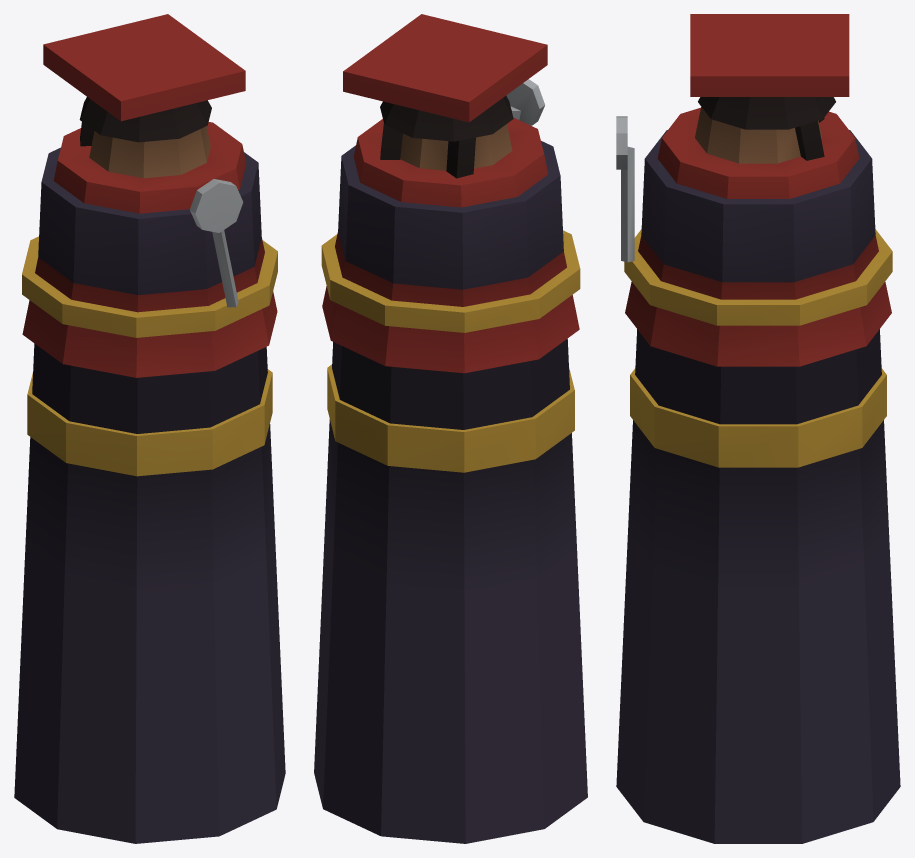
File: matron.glb
3 views of the same model, side by side, from view 1: azimuth 30°, elevation 25°; view 2: azimuth 150°, elevation 25°; view 3: azimuth 270°, elevation 25° (orthographic). The views are drawn at different scales.
Visible parts, largest first — view 1: base; view 2: base; view 3: base.
Part boxes in pixels (x1,y1,x2,y2): base: [14, 14, 285, 843]; base: [314, 14, 587, 843]; base: [616, 14, 900, 843].
Size of the model in its own units: 0.4755 by 1.44 by 0.5.
